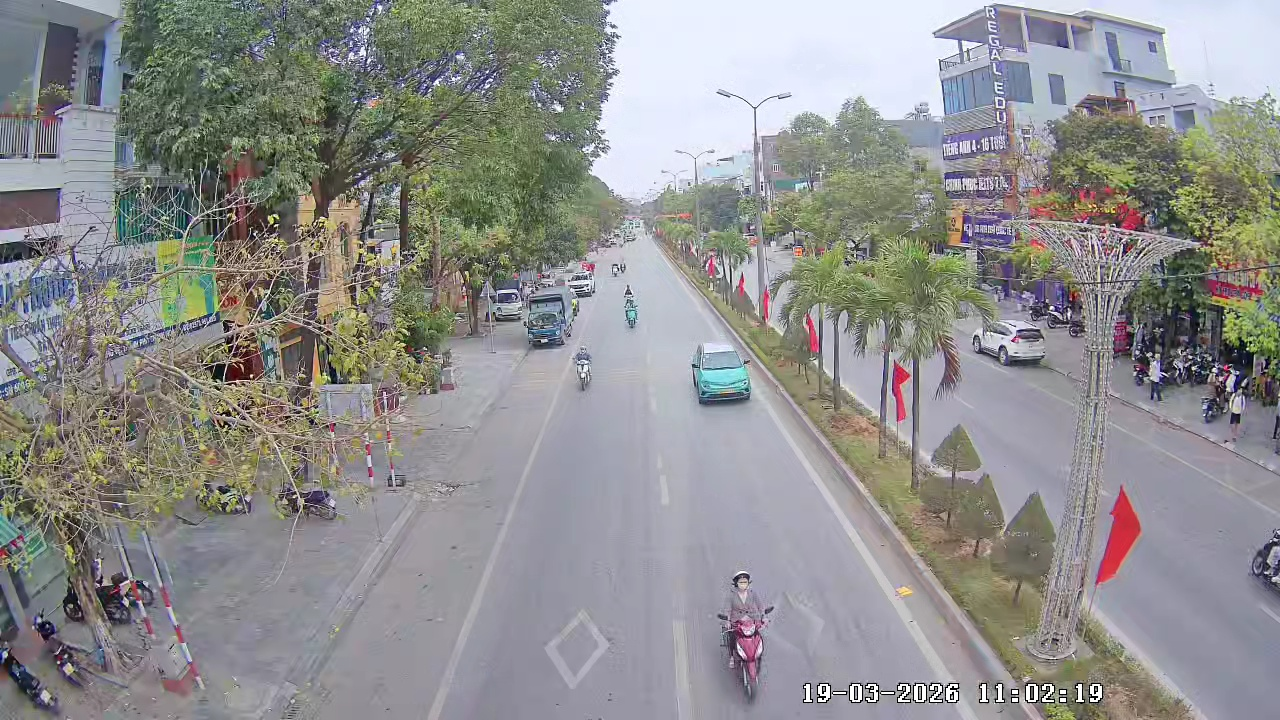bike: (714, 570, 777, 702)
car: (689, 339, 754, 405), (971, 322, 1050, 367), (567, 263, 596, 299)
motorbike: (715, 570, 777, 702), (289, 486, 342, 522), (571, 345, 594, 392), (623, 288, 640, 329)
truck: (523, 289, 573, 349)
